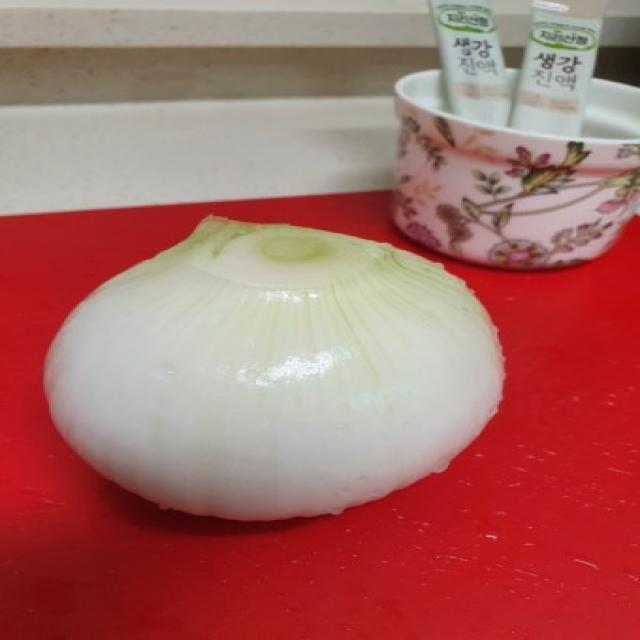Onion: (44, 212, 505, 523)
